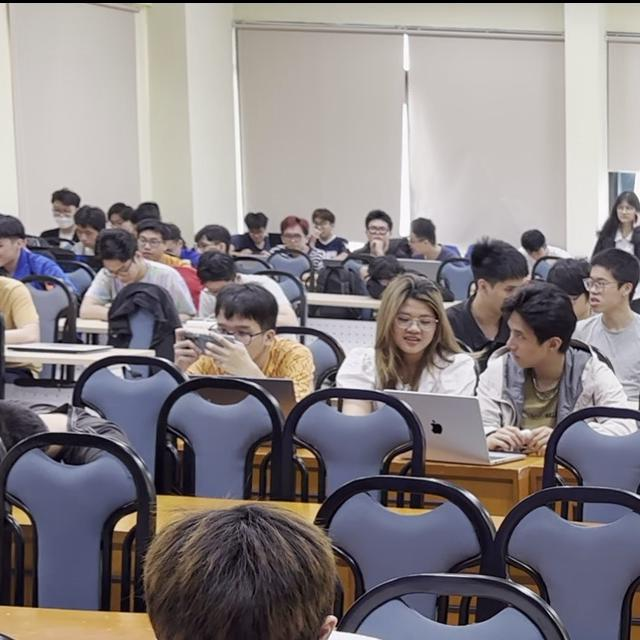Looking away: (176, 286, 317, 407), (502, 313, 551, 370), (390, 303, 439, 357), (583, 260, 625, 318), (101, 256, 142, 286)
Looking forward: (281, 225, 307, 256), (365, 219, 392, 246), (615, 200, 636, 225)
